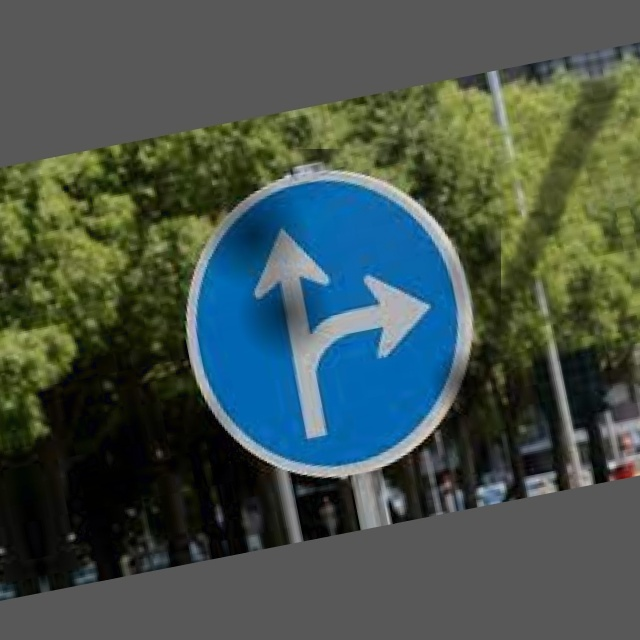Compulsory_Ahead_or_Turn_Right: (160, 149, 501, 503)
